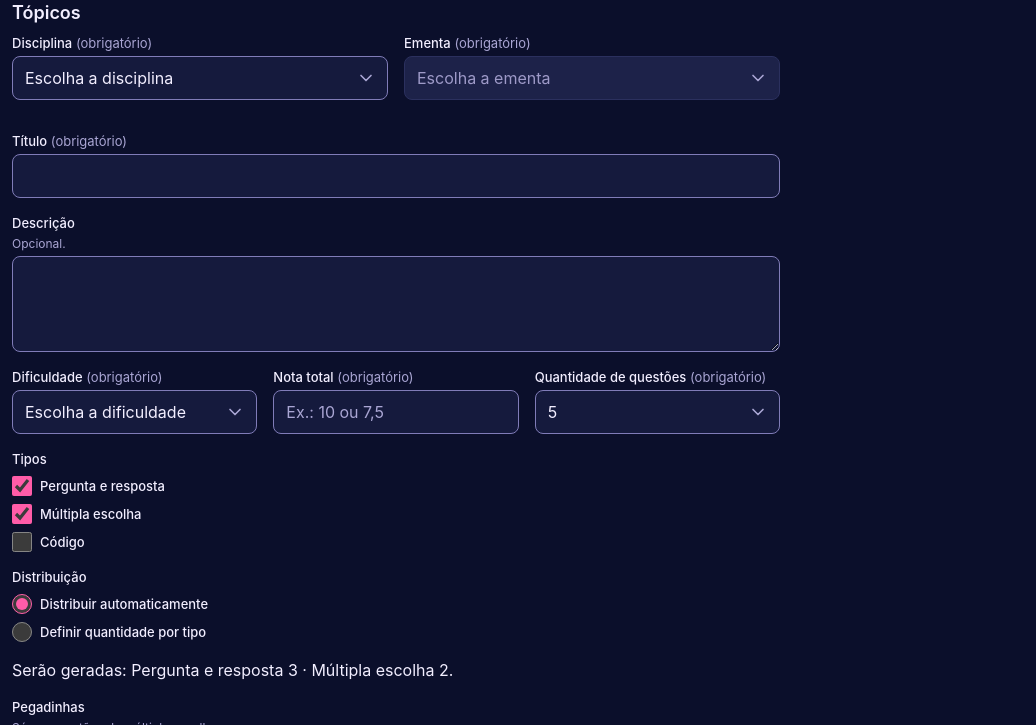
011/US3 WorkGenerationForm — Criar trabalho com IA › 011/US3-5 a prévia da distribuição automática é a do servidor: 10 em 3 tipos → 4, 3 e 3
Select "Programação Orientada a Objetos" in the dropdown labelled "Disciplina (obrigatório)" at (200, 78), box [12,56,388,100]
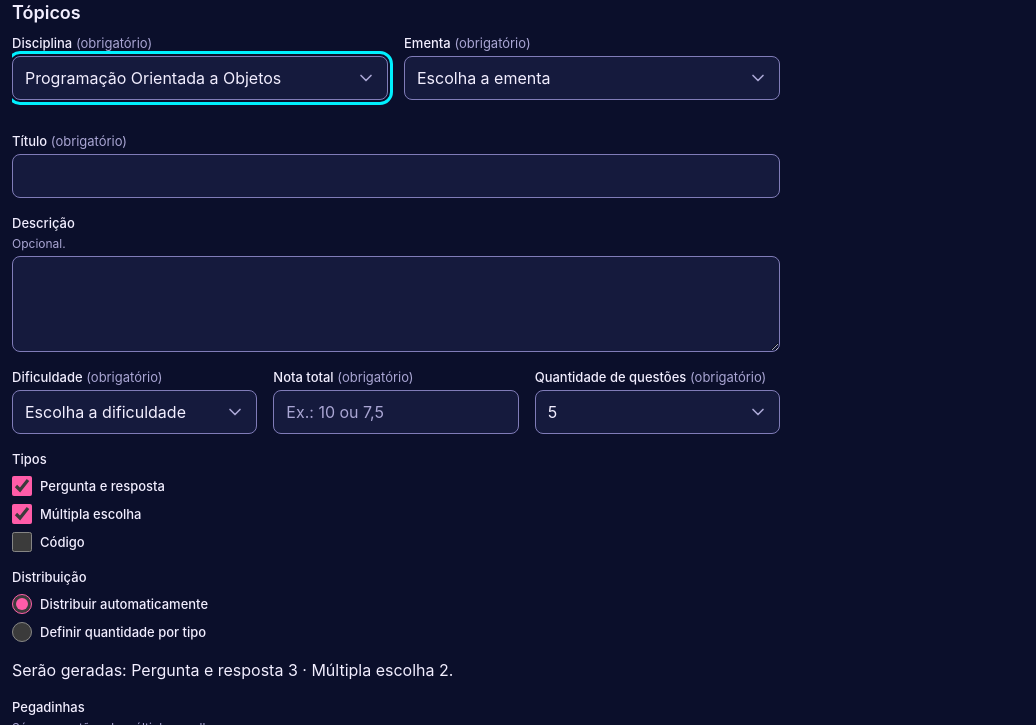
Select "Versão 1" in the dropdown labelled "Ementa (obrigatório)" at (592, 78), box [404,56,780,100]
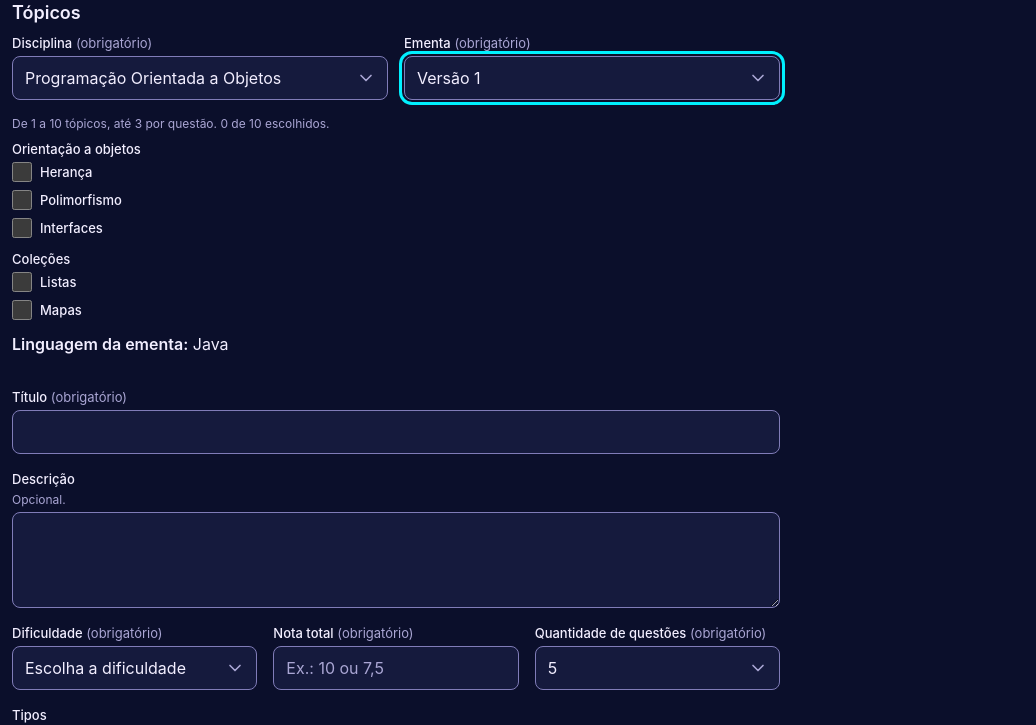
expect the element named "Tópicos do trabalho" is shown: met, box [12,116,330,354]
Select "10" in the dropdown labelled "Quantidade de questões (obrigatório)" at (657, 668), box [535,646,780,690]
(page scrolled)
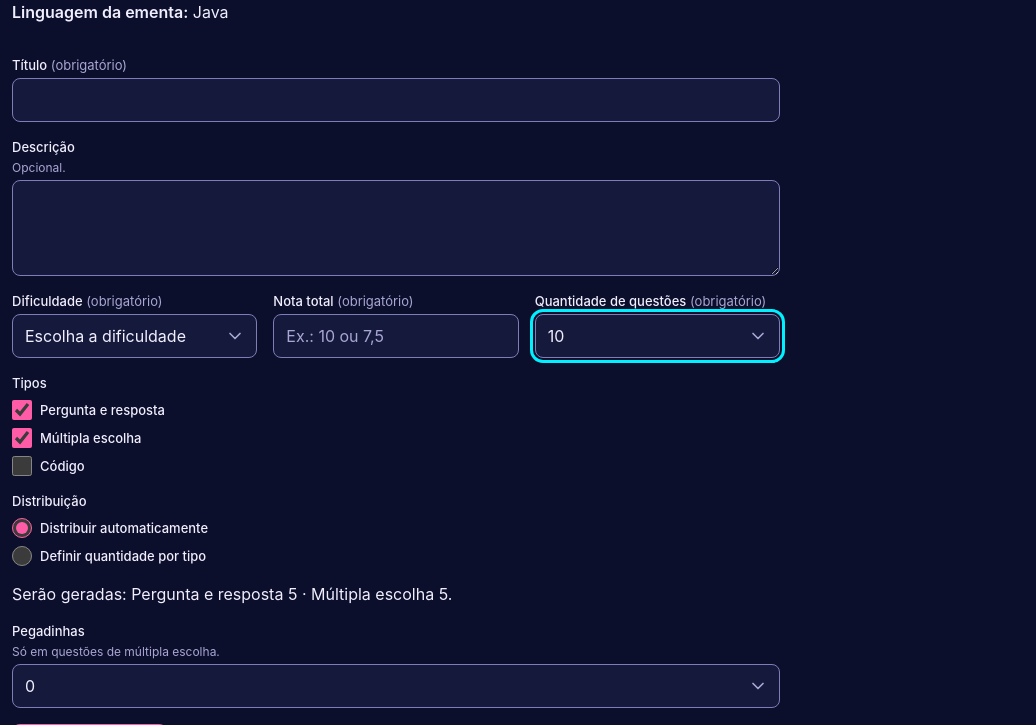
Click the checkbox labelled "Código" at (22, 466), box [12,456,32,476]
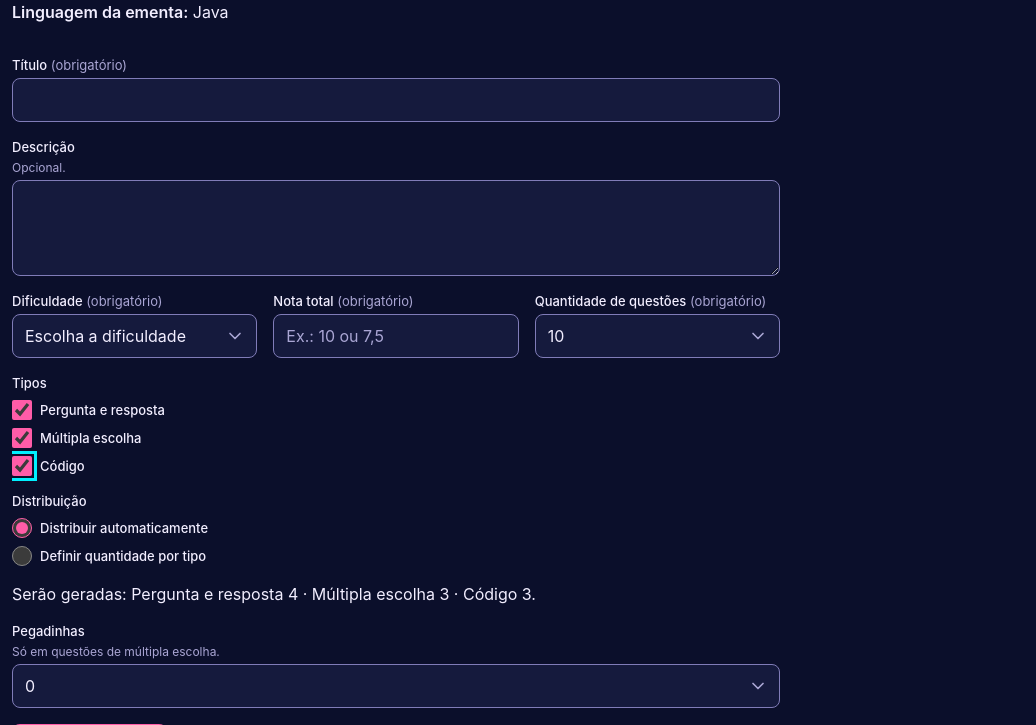
expect the text "Serão geradas: Pergunta e resposta 4 · Múltipla escolha 3 · Código 3." is shown: met, box [12,584,536,604]
